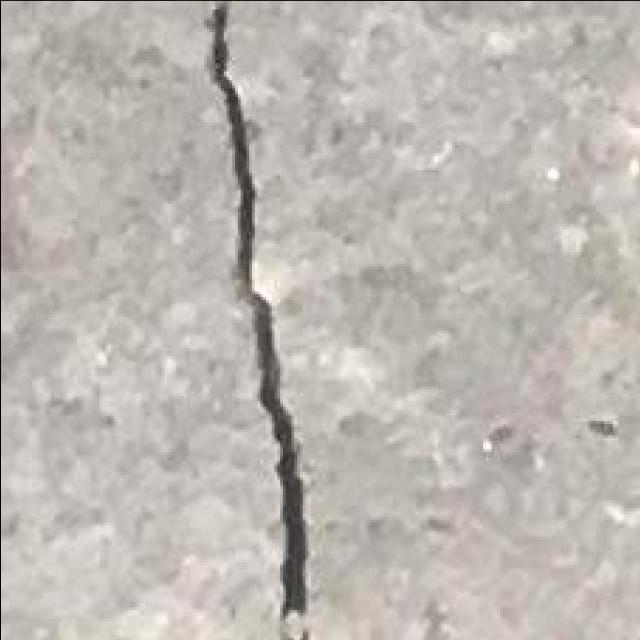Crack: (204, 2, 310, 637)
